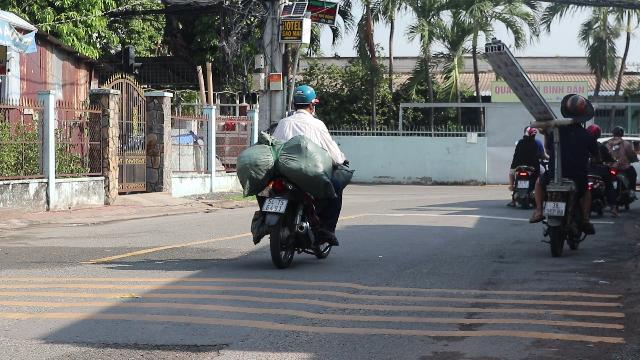helmet: (558, 93, 594, 124), (290, 84, 318, 112)
licenseplate: (261, 199, 287, 213), (544, 201, 566, 215)
motorcyclist: (234, 82, 348, 266), (530, 92, 600, 255)
